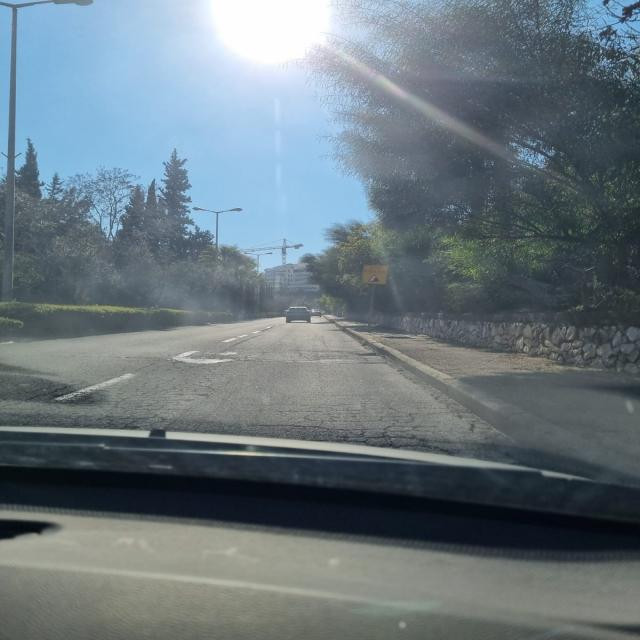medium_pothole: (355, 351, 386, 365)
